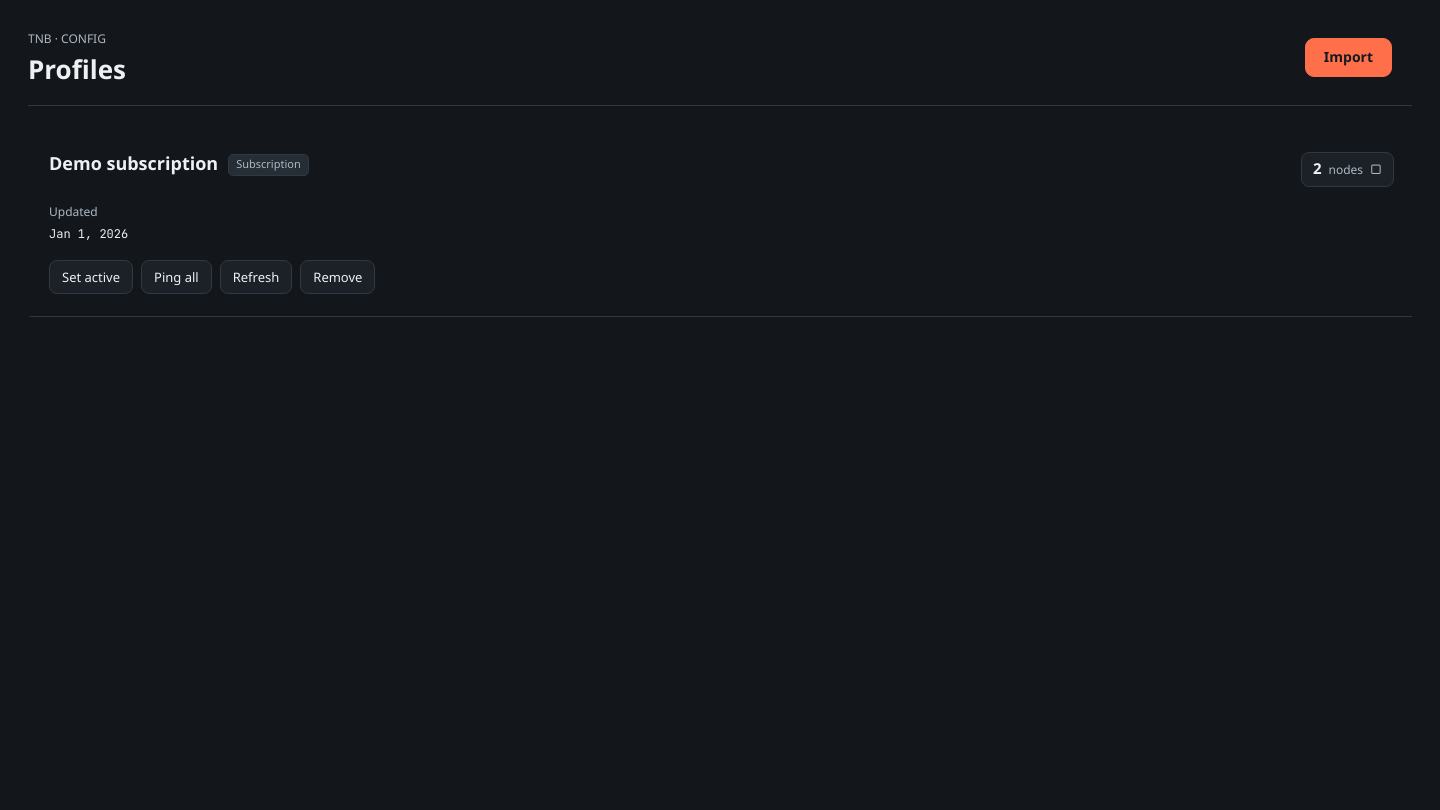
ProfilesScreen import dialog › subscription tab › requires a name before importing
This screenshot has width=1440, height=810.
Click the button "Import". click: (1348, 58)
box: [1305,38,1392,77]
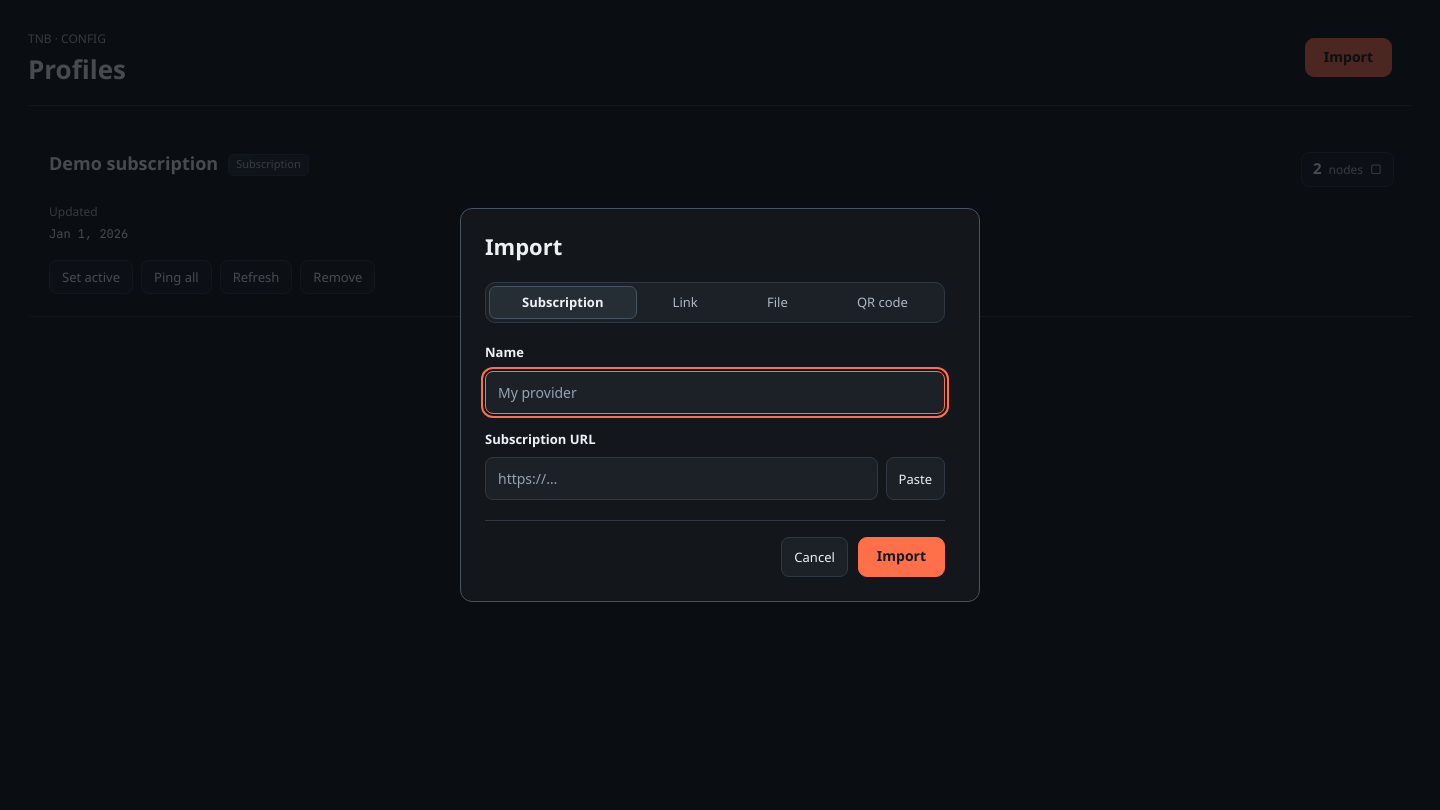
Click the button "Import". click: (901, 557)
box: [858,537,945,577]
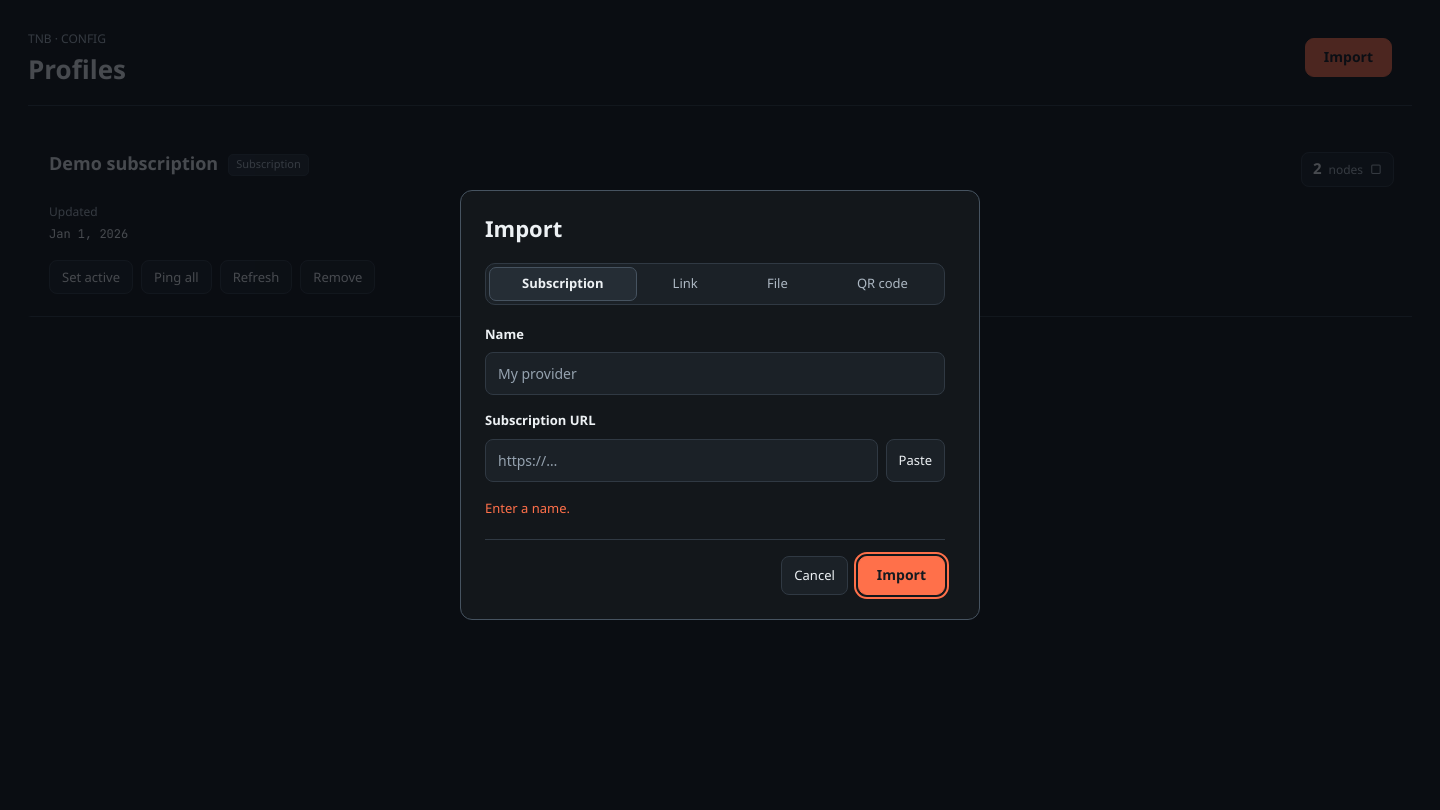
Now the text "Enter a name." is shown, box [485,499,570,517]
